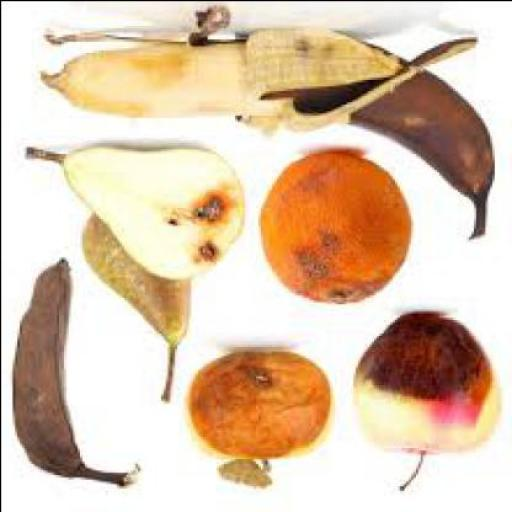biodegradable: (39, 6, 496, 240), (26, 145, 247, 283), (16, 260, 146, 490), (355, 312, 502, 492), (262, 153, 415, 305), (83, 207, 195, 401), (188, 351, 334, 474), (220, 458, 274, 490)
